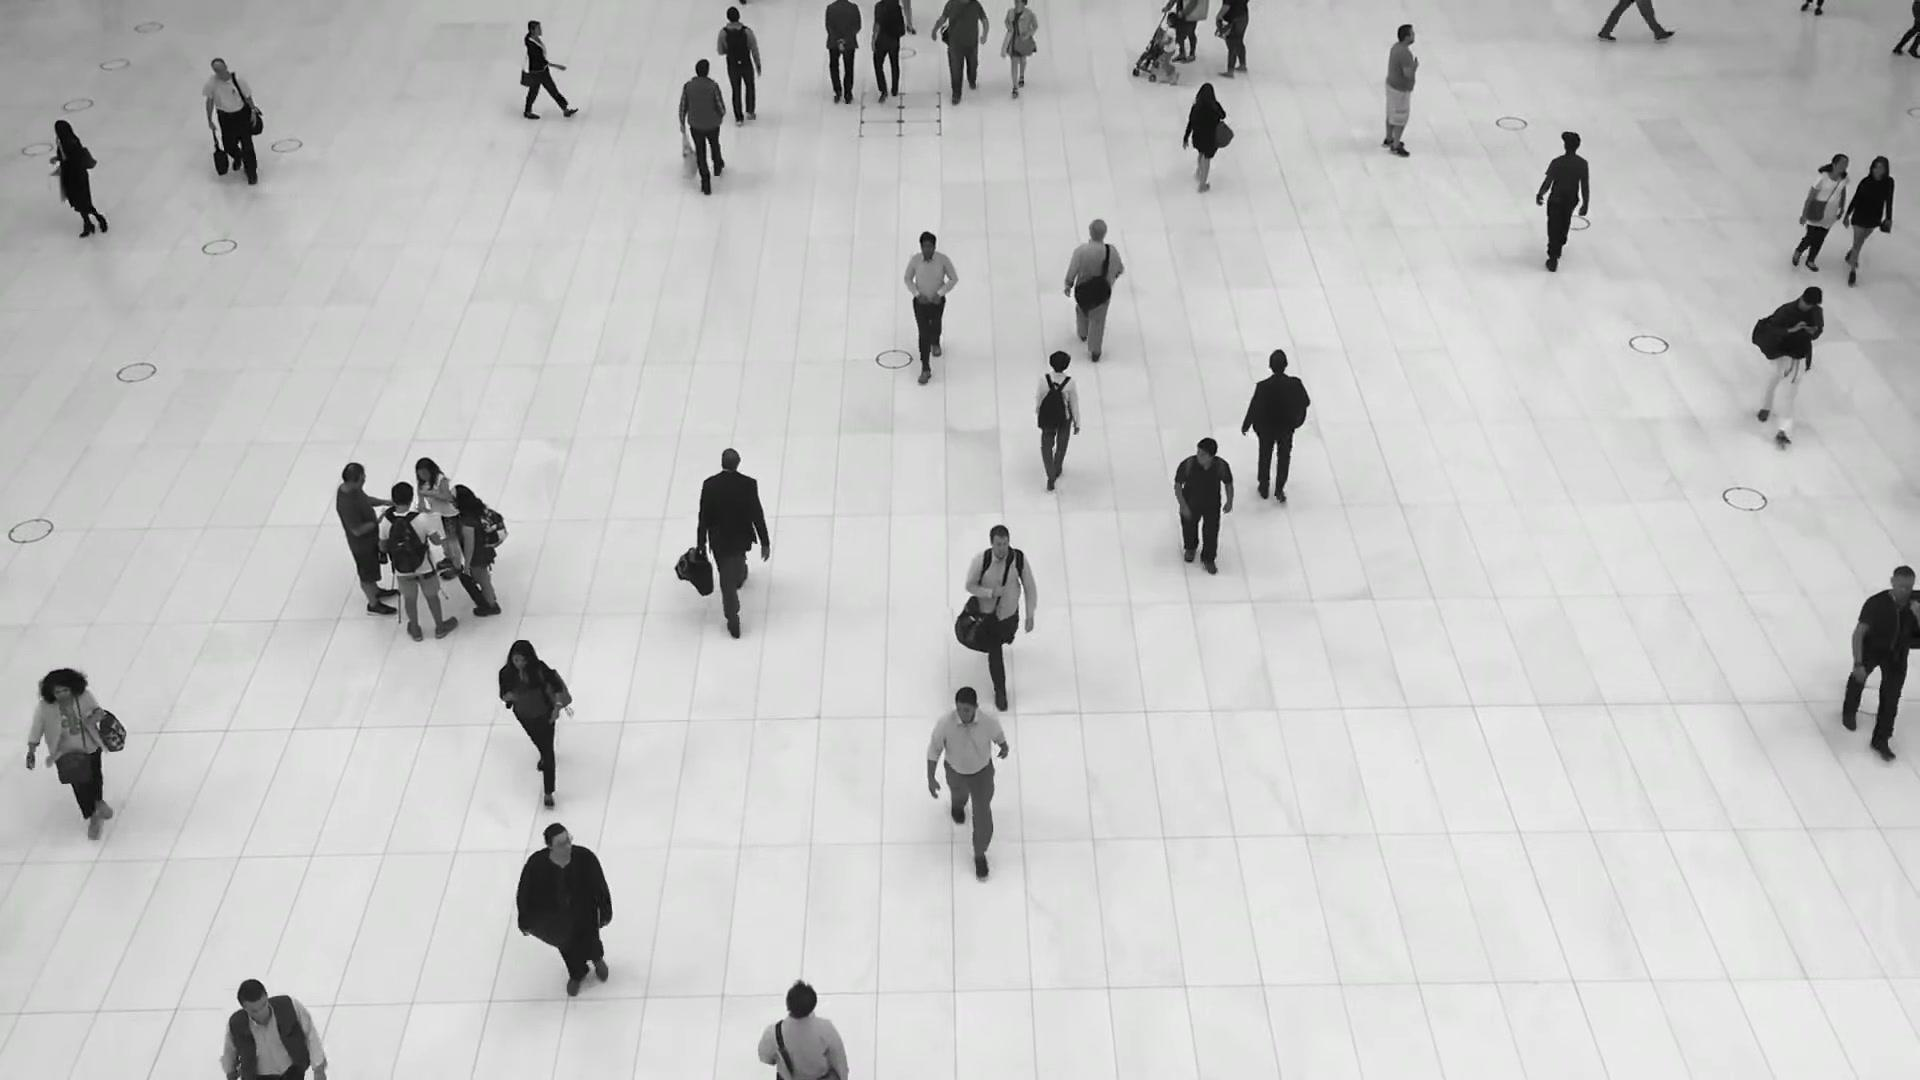person: (517, 825, 616, 1023), (1836, 571, 1919, 767), (925, 682, 1014, 859), (26, 668, 116, 834), (698, 443, 771, 624), (965, 520, 1037, 702), (378, 481, 459, 641), (497, 638, 574, 802), (1751, 285, 1827, 441), (1245, 352, 1311, 517), (225, 979, 324, 1080), (335, 465, 400, 615), (756, 977, 848, 1080), (1171, 440, 1236, 586), (899, 228, 960, 375), (1064, 220, 1123, 369), (1534, 130, 1590, 278), (201, 57, 258, 186), (1791, 153, 1849, 279), (449, 484, 502, 617), (50, 117, 108, 240), (1032, 349, 1081, 494), (678, 58, 727, 195), (1841, 154, 1894, 280), (932, 0, 991, 104), (1183, 82, 1235, 197), (717, 8, 763, 131), (1381, 23, 1421, 157), (517, 17, 570, 119), (418, 457, 459, 580), (823, 0, 861, 108), (1000, 0, 1039, 97), (868, 0, 904, 104), (1155, 12, 1179, 85)
